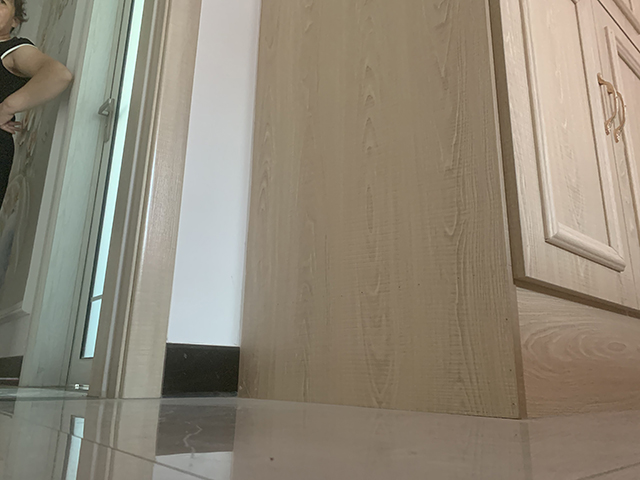cabinet: (236, 1, 639, 421)
